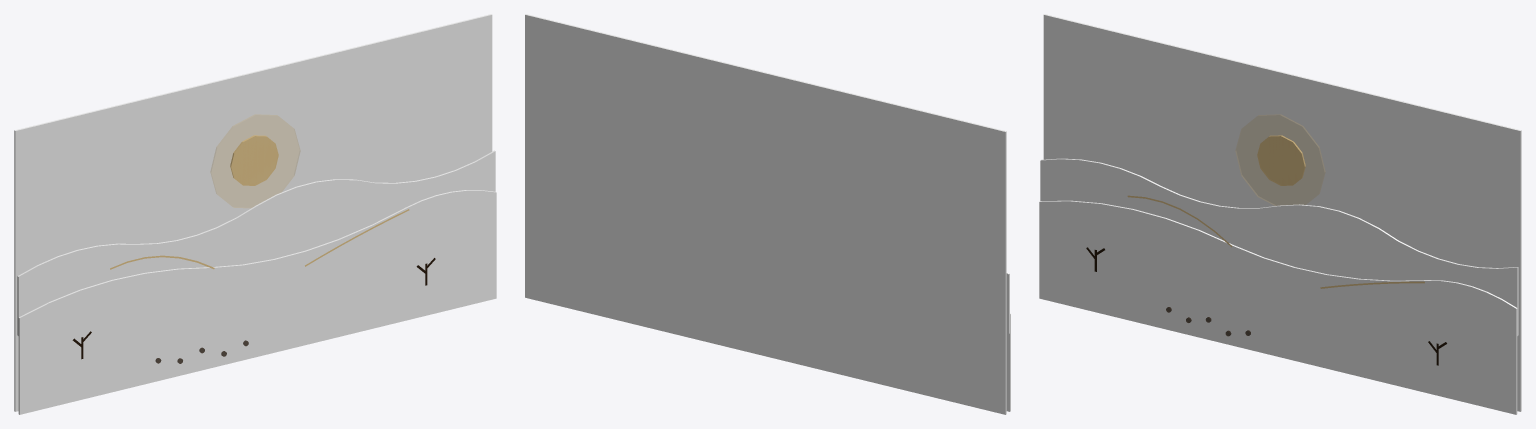
Rendered from loc-desert-karakum.glb.
The picture shows the model from 3 angles, left to right: view 1: azimuth 30°, elevation 25°; view 2: azimuth 150°, elevation 25°; view 3: azimuth 330°, elevation 25°; orthographic projection.
Parts seen in each view (by area): view 1: loc-desert-karakum; view 2: loc-desert-karakum; view 3: loc-desert-karakum.
Boxes of the visible parts, x1,y1,x2,y2 form: loc-desert-karakum: (14, 14, 496, 414); loc-desert-karakum: (525, 14, 1010, 414); loc-desert-karakum: (1039, 14, 1521, 414).
Size of the model in its own units: 5.33 by 3 by 0.28.
